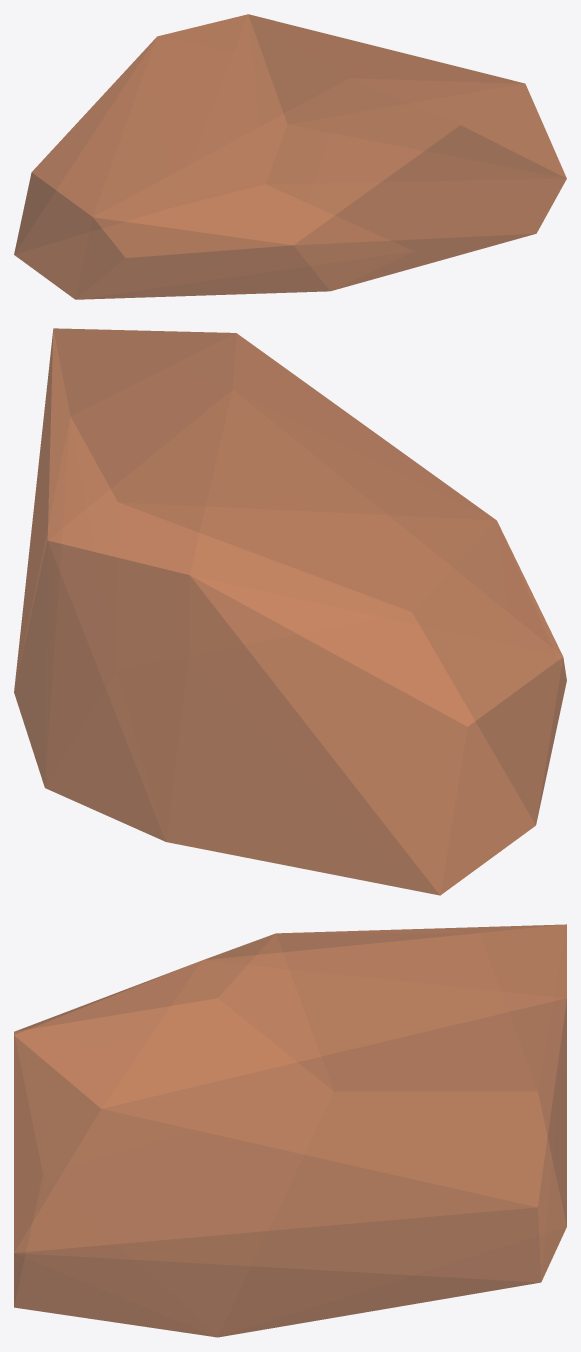
3 views of the same model, one above another, from view 1: azimuth 30°, elevation 25°; view 2: azimuth 150°, elevation 25°; view 3: azimuth 270°, elevation 25° (orthographic). The views are drawn at different scales.
Parts seen in each view (by area): view 1: Shape_IndexedFaceSet.038_Shape_IndexedFaceSet.9049; view 2: Shape_IndexedFaceSet.038_Shape_IndexedFaceSet.9049; view 3: Shape_IndexedFaceSet.038_Shape_IndexedFaceSet.9049.
Part boxes in pixels (<box>): Shape_IndexedFaceSet.038_Shape_IndexedFaceSet.9049: <box>14,14,566,299</box>; Shape_IndexedFaceSet.038_Shape_IndexedFaceSet.9049: <box>14,328,566,895</box>; Shape_IndexedFaceSet.038_Shape_IndexedFaceSet.9049: <box>14,924,566,1337</box>.
Size of the model in its own units: 0.0605 by 0.0283 by 0.0442.
